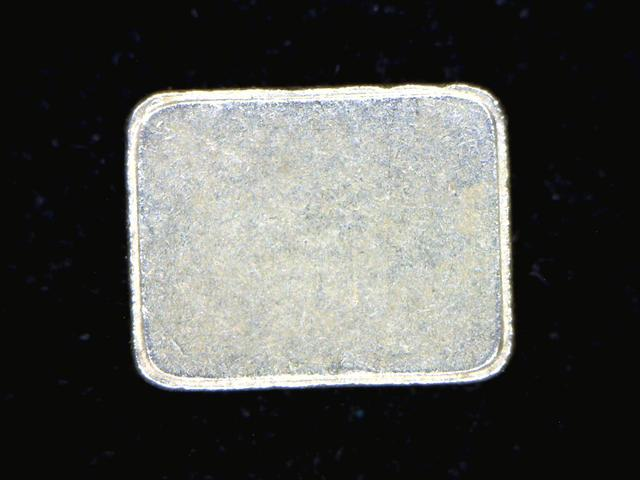nok: (122, 82, 521, 383)
